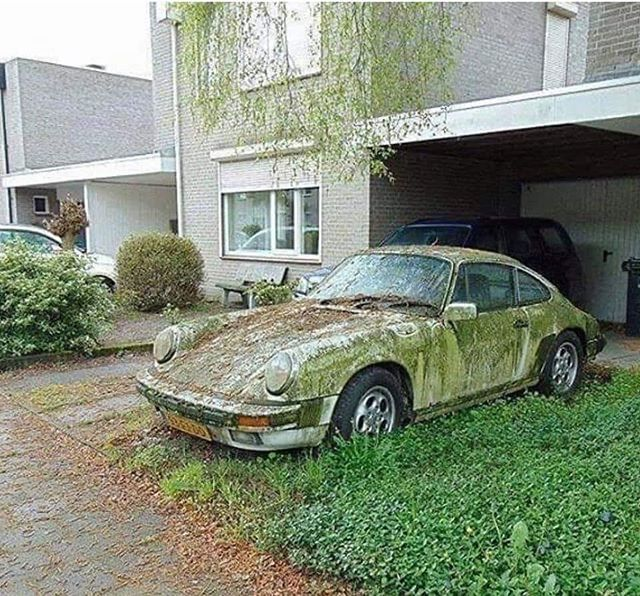building: (166, 1, 640, 316), (1, 60, 180, 263)
car: (140, 248, 590, 453)
grass: (282, 385, 640, 583)
